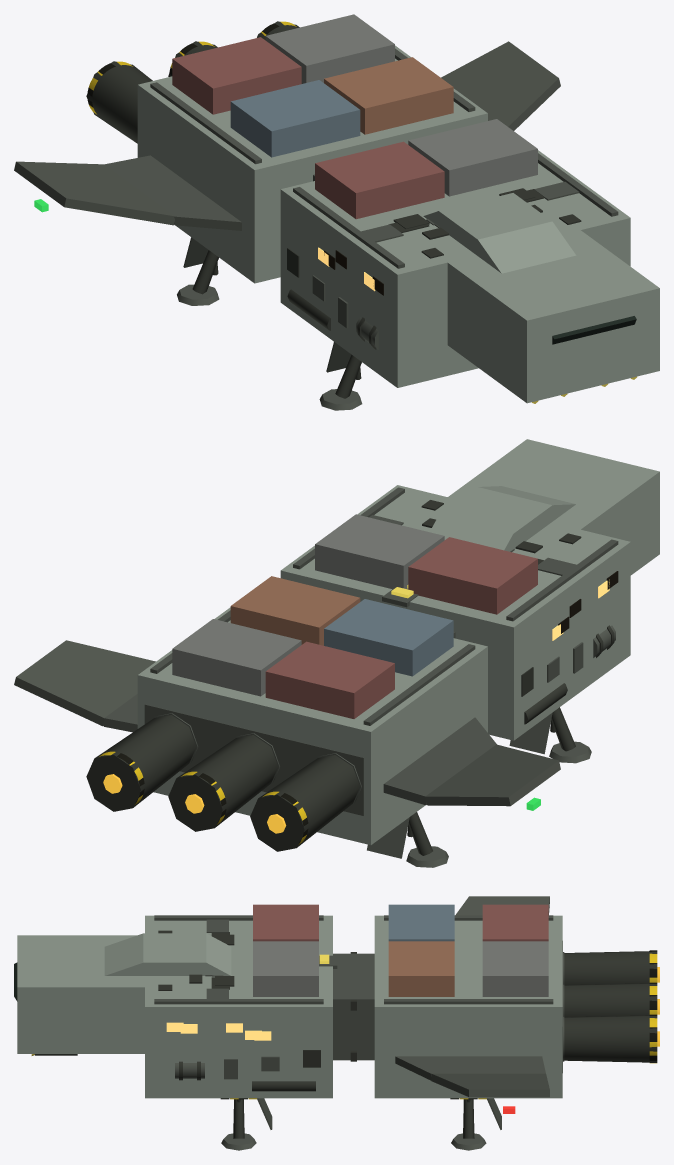
File: freighter-m.glb
The picture shows the model from 3 angles, top to bottom: view 1: azimuth 30°, elevation 25°; view 2: azimuth 150°, elevation 25°; view 3: azimuth 270°, elevation 25°; orthographic projection. The views are drawn at different scales.
Visible parts, largest first — view 1: hullMain, hullNose, hullSection1, cargoContainer1_1L, cargoContainer0_0L, canopyFairing, cargoContainer1_0L, cargoContainer0_0R, cargoContainer1_1R, wingOuterRight, cargoContainer1_0R, wingOuterLeft (+9 smaller); view 2: hullMain, hullSection1, engineHousing (×3), hullNose, cargoContainer1_0L, cargoContainer0_0L, wingOuterRight, cargoContainer1_1L, cargoContainer1_0R, cargoContainer0_0R, canopyFairing, cargoContainer1_1R (+8 smaller); view 3: hullMain, hullSection1, hullNose, engineHousing (×3), canopyFairing, gantry0, cargoContainer1_0R, cargoContainer1_1R, cargoContainer0_0R, wingInnerRight, wingOuterRight, cargoContainer1_0L (+9 smaller).
Part boxes in pixels (x1=…): hullMain: x1=280, y1=150, x2=630, y2=387; hullNose: x1=447, y1=225, x2=659, y2=403; hullSection1: x1=137, y1=45, x2=487, y2=283; cargoContainer1_1L: x1=230, y1=80, x2=360, y2=157; cargoContainer0_0L: x1=315, y1=141, x2=444, y2=219; canopyFairing: x1=423, y1=193, x2=576, y2=273; cargoContainer1_0L: x1=172, y1=37, x2=301, y2=114; cargoContainer0_0R: x1=408, y1=119, x2=537, y2=196; cargoContainer1_1R: x1=324, y1=57, x2=453, y2=134; wingOuterRight: x1=441, y1=41, x2=560, y2=130; cargoContainer1_0R: x1=265, y1=14, x2=394, y2=83; wingOuterLeft: x1=14, y1=161, x2=174, y2=225; hullMain: x1=280, y1=485, x2=630, y2=740; hullSection1: x1=137, y1=607, x2=487, y2=845; engineHousing (×3): x1=86, y1=715, x2=359, y2=851; hullNose: x1=442, y1=439, x2=659, y2=575; cargoContainer1_0L: x1=265, y1=641, x2=394, y2=718; cargoContainer0_0L: x1=408, y1=537, x2=537, y2=614; wingOuterRight: x1=14, y1=640, x2=155, y2=726; cargoContainer1_1L: x1=324, y1=599, x2=453, y2=676; cargoContainer1_0R: x1=172, y1=619, x2=301, y2=696; cargoContainer0_0R: x1=315, y1=514, x2=444, y2=589; canopyFairing: x1=430, y1=486, x2=575, y2=551; cargoContainer1_1R: x1=230, y1=576, x2=360, y2=645; hullMain: x1=145, y1=915, x2=332, y2=1098; hullSection1: x1=374, y1=915, x2=562, y2=1098; hullNose: x1=17, y1=935, x2=156, y2=1053; engineHousing (×3): x1=564, y1=951, x2=657, y2=1062; canopyFairing: x1=104, y1=933, x2=231, y2=975; gantry0: x1=333, y1=953, x2=374, y2=1060; cargoContainer1_0R: x1=482, y1=941, x2=548, y2=996; cargoContainer1_1R: x1=388, y1=941, x2=454, y2=996; cargoContainer0_0R: x1=253, y1=941, x2=318, y2=996; wingInnerRight: x1=395, y1=1056, x2=545, y2=1080; wingOuterRight: x1=431, y1=1073, x2=549, y2=1097; cargoContainer1_0L: x1=482, y1=904, x2=548, y2=941.
Size of the model in its own units: 5.99 by 2.25 by 8.35.
